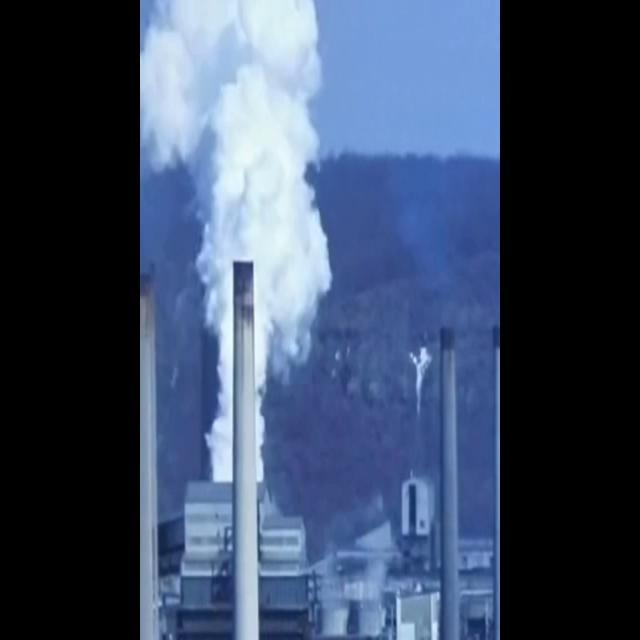Smoke: (156, 1, 336, 486)
